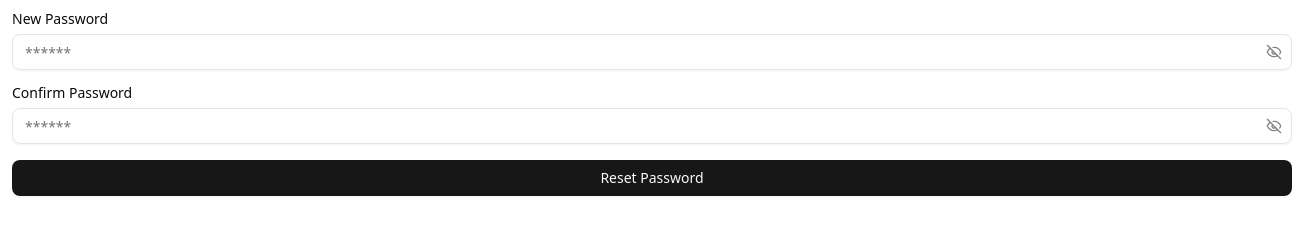
Test: ResetPasswordForm › shows server side validation errors
The image size is (1304, 244).
Type "Password2" into the password field labelled "New Password". click: (652, 52)
box: top-left (12, 34), bottom-right (1292, 70)
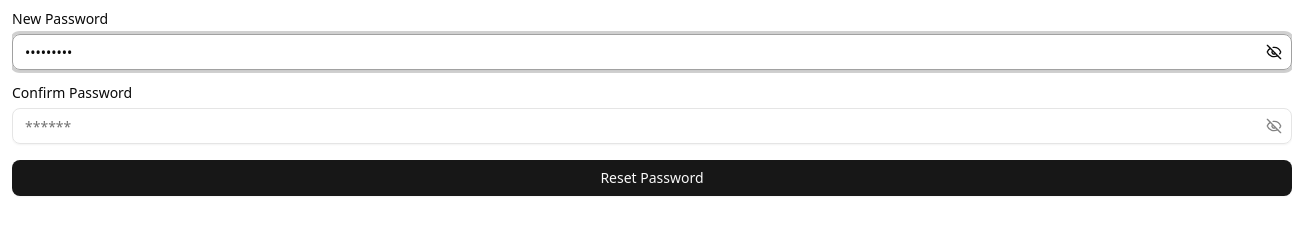
Type "Password2" into the password field labelled "Confirm Password". click: (652, 126)
box: top-left (12, 108), bottom-right (1292, 144)
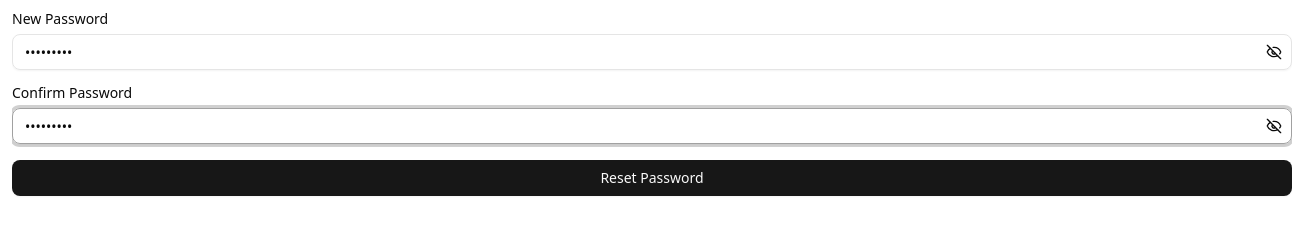
Click the button "Reset Password". click: (652, 178)
box: top-left (12, 160), bottom-right (1292, 196)
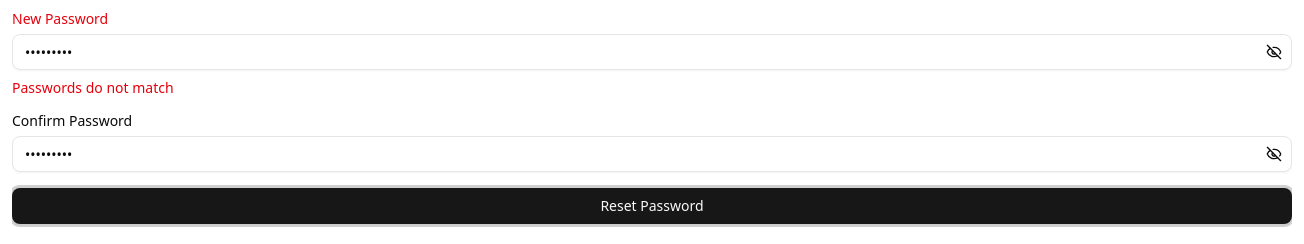
expect the text "Passwords do not match" is shown: met, box top-left (12, 78), bottom-right (174, 97)
